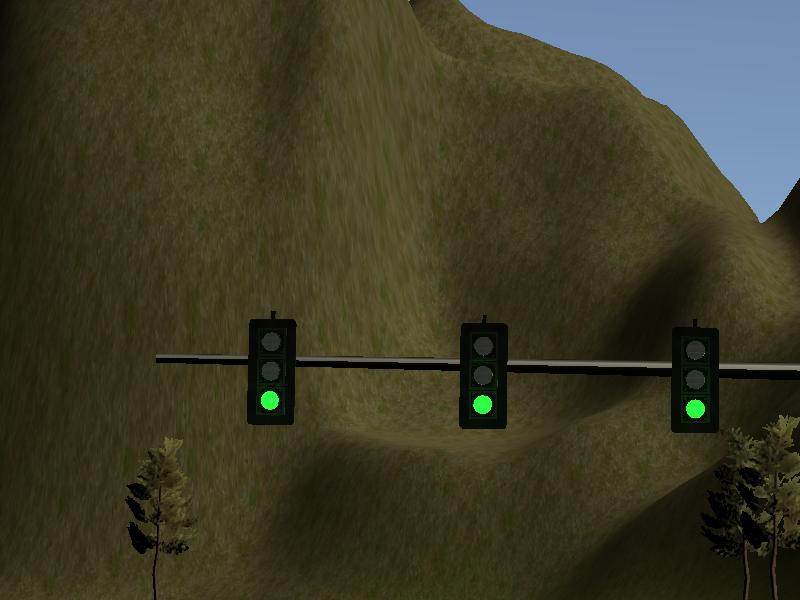green_light: (251, 321, 295, 425), (673, 331, 715, 431), (461, 326, 501, 425)
